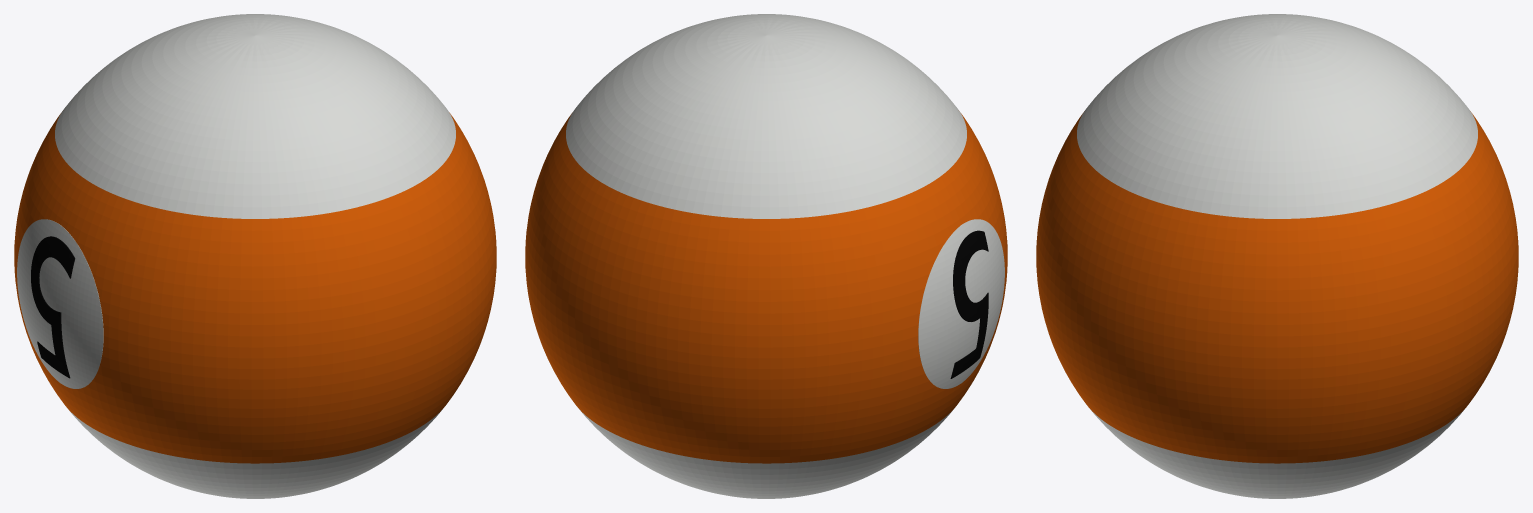
File: Ball#5.fbx
3 renders of one model, left to right at view 1: azimuth 30°, elevation 25°; view 2: azimuth 150°, elevation 25°; view 3: azimuth 270°, elevation 25°, orthographic.
Visible parts, largest first — view 1: Sphere, Sphere.001, Text; view 2: Sphere, Sphere.001, Text; view 3: Sphere.
Part boxes in pixels (left/top/right/bottom): Sphere: left=14, top=14, right=496, bottom=498; Sphere.001: left=17, top=219, right=103, bottom=388; Text: left=31, top=236, right=75, bottom=378; Sphere: left=525, top=14, right=1007, bottom=498; Sphere.001: left=918, top=219, right=1004, bottom=388; Text: left=950, top=230, right=988, bottom=378; Sphere: left=1036, top=14, right=1518, bottom=498.
Bounding box in the file's own units: 198 × 200 × 198.
